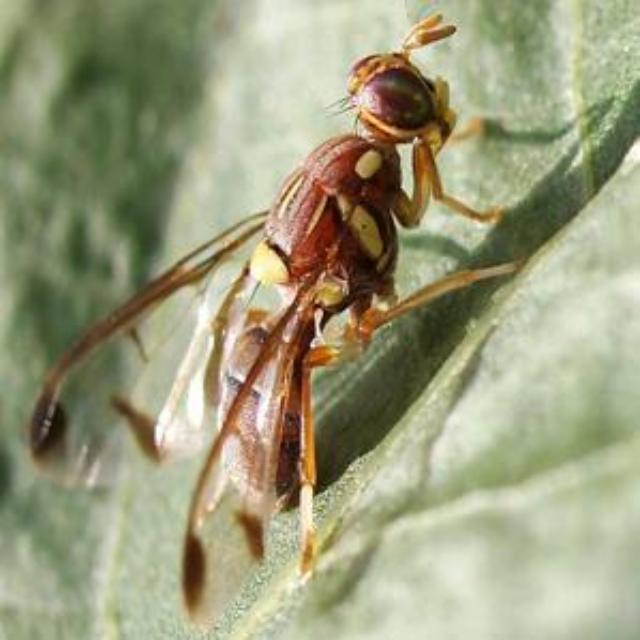melon fly: (0, 0, 542, 606)
